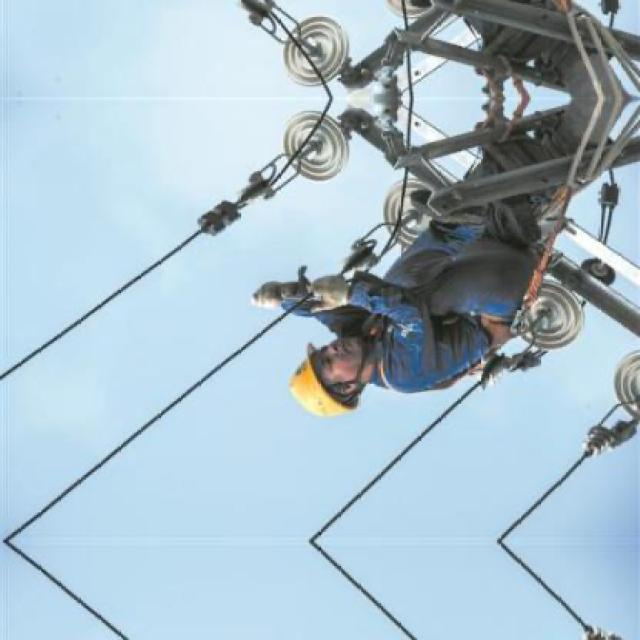con casco: (239, 318, 412, 435)
